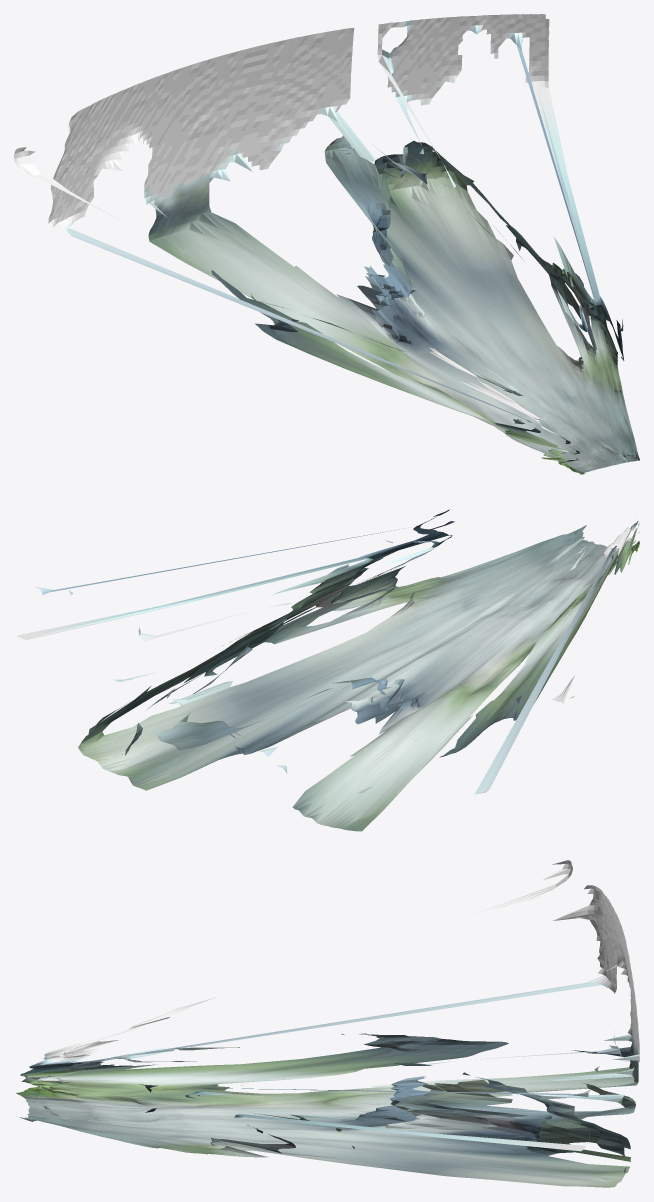
The picture shows the model from 3 angles, top to bottom: view 1: azimuth 30°, elevation 25°; view 2: azimuth 150°, elevation 25°; view 3: azimuth 270°, elevation 25°; orthographic projection. The views are drawn at different scales.
Parts seen in each view (by area): view 1: defaultobject; view 2: defaultobject; view 3: defaultobject.
Part boxes in pixels (box(x1,y1,x2,y2)): defaultobject: box(14, 14, 639, 474); defaultobject: box(17, 509, 639, 831); defaultobject: box(16, 860, 639, 1187).
Size of the model in its own units: 39.3 by 12.62 by 45.38.
Materials: 1 (1 with a texture image).
